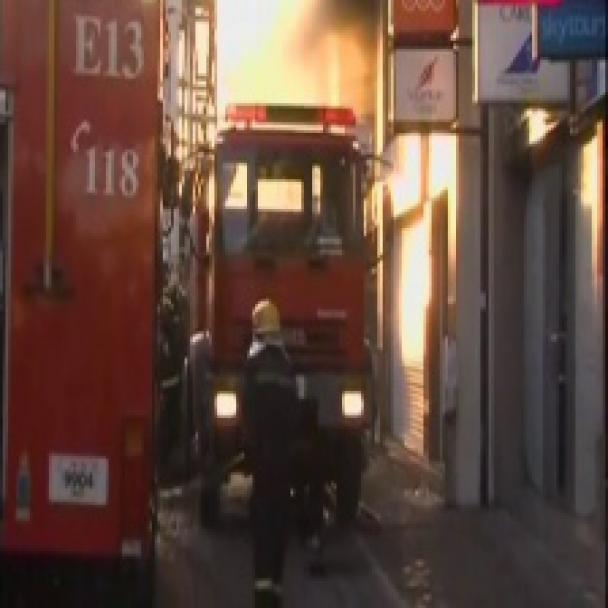smoke: (0, 6, 484, 542)
